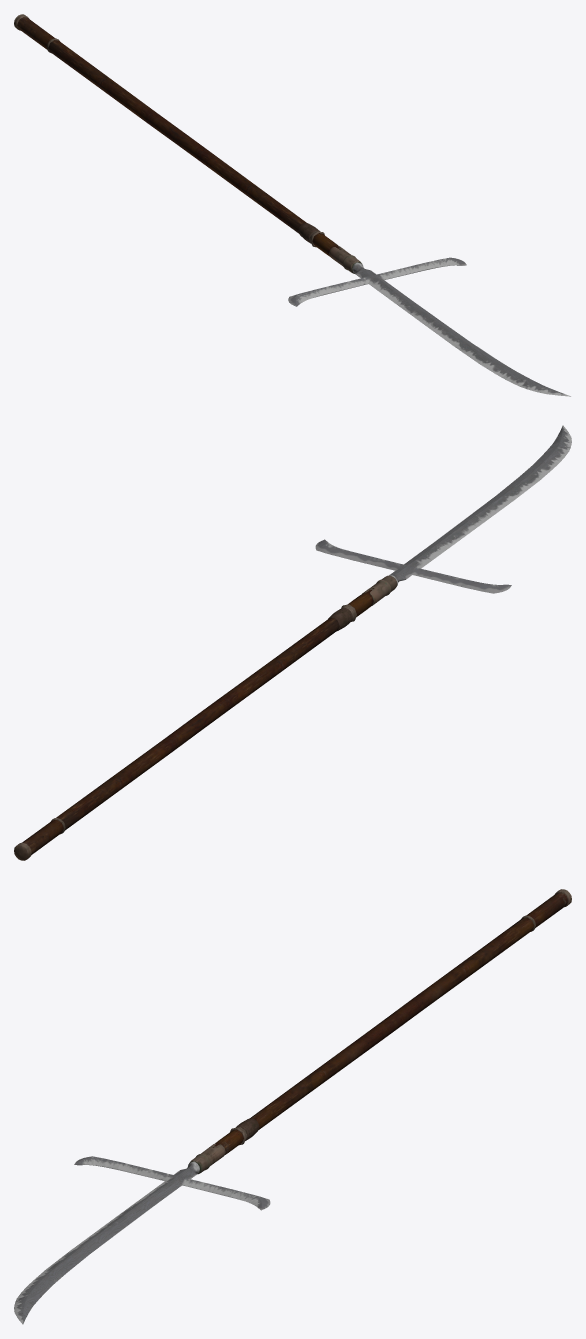
The picture shows the model from 3 angles, top to bottom: view 1: azimuth 30°, elevation 25°; view 2: azimuth 150°, elevation 25°; view 3: azimuth 330°, elevation 25°; orthographic projection. The views are drawn at different scales.
Visible parts, largest first — view 1: WP_A_0932; view 2: WP_A_0932; view 3: WP_A_0932.
Boxes of the visible parts, <box> form: WP_A_0932: <box>14,14,570,396</box>; WP_A_0932: <box>14,425,571,860</box>; WP_A_0932: <box>14,889,571,1324</box>.
Size of the model in its own units: 49.72 by 4.37 by 260.
Materials: 1 (1 with a texture image).
